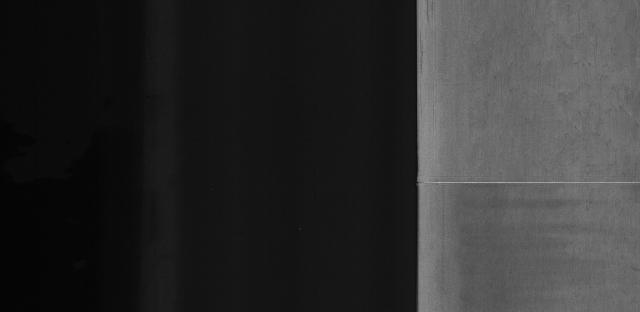silk_spot: (504, 8, 634, 169), (550, 200, 635, 308)
welding_line: (418, 175, 640, 191)
